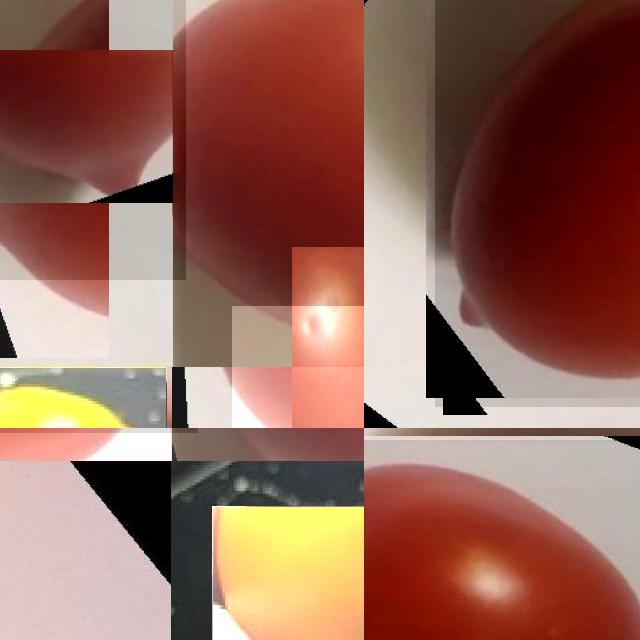Fresh Tomato: (434, 0, 640, 407), (172, 0, 364, 367), (364, 440, 640, 640), (0, 0, 186, 280), (232, 306, 364, 428)
Rotten Tomato: (212, 506, 364, 640), (0, 367, 166, 428)
